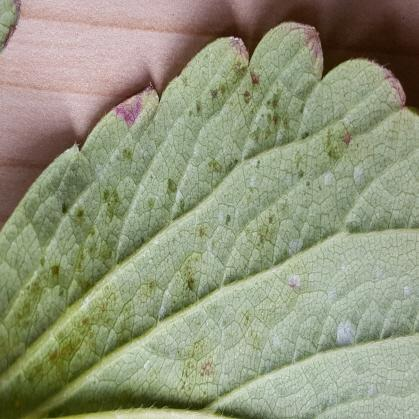Angular Leafspot: (0, 21, 403, 414)
